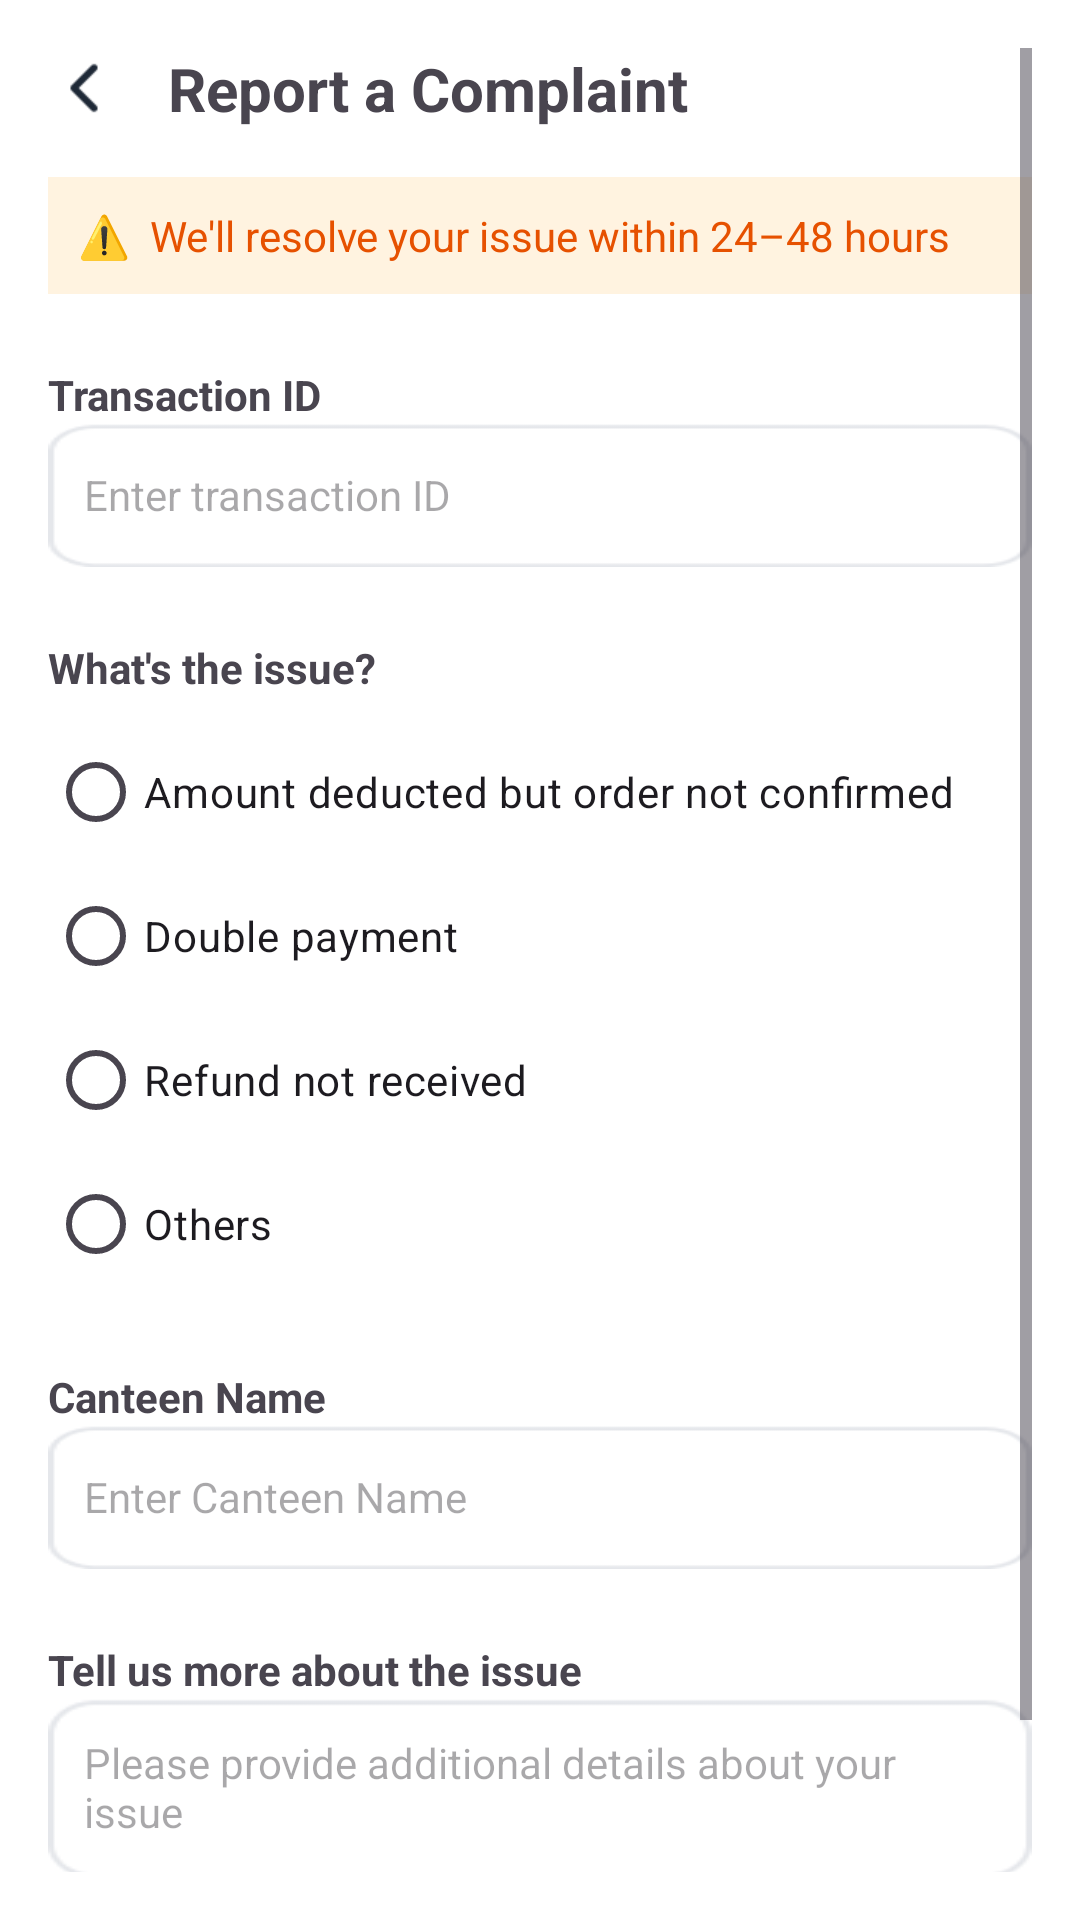

Screen size 1080 × 1920. Icon name, then its center in pixels as [x,y]:
Back: [84,88]
